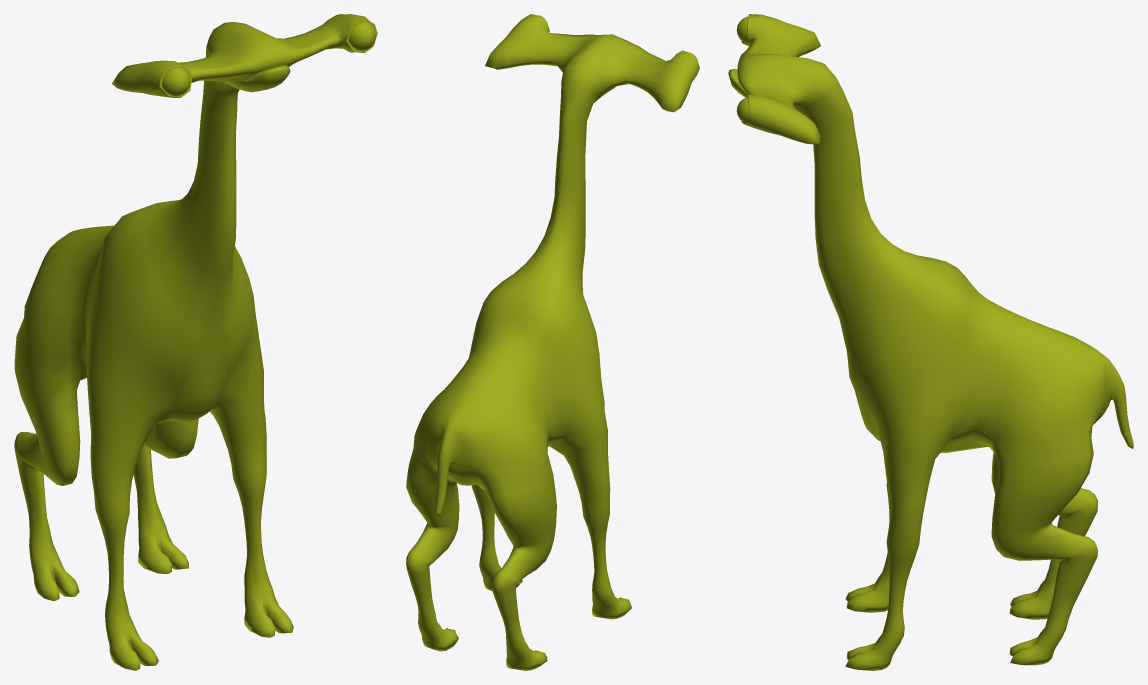
Rendered from Shrff_Digitigrade.fbx.
The picture shows the model from 3 angles, left to right: view 1: azimuth 30°, elevation 25°; view 2: azimuth 150°, elevation 25°; view 3: azimuth 270°, elevation 25°; orthographic projection. The views are drawn at different scales.
Visible parts, largest first — view 1: Body, R_Eye, L_Eye; view 2: Body; view 3: Body.
Boxes of the visible parts, left/top/right/bottom form: Body: left=14, top=14, right=377, bottom=670; R_Eye: left=162, top=66, right=190, bottom=96; L_Eye: left=348, top=19, right=375, bottom=50; Body: left=406, top=14, right=699, bottom=670; Body: left=728, top=14, right=1133, bottom=670.
Size of the model in its own units: 3.22 by 8.45 by 5.35.
